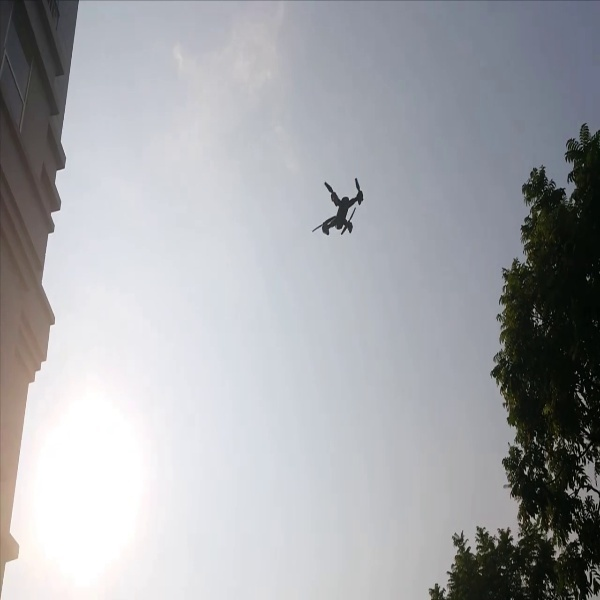drone: (302, 172, 380, 247)
